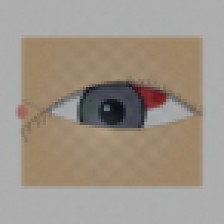hemorrhage_spot: (89, 62, 179, 135)
